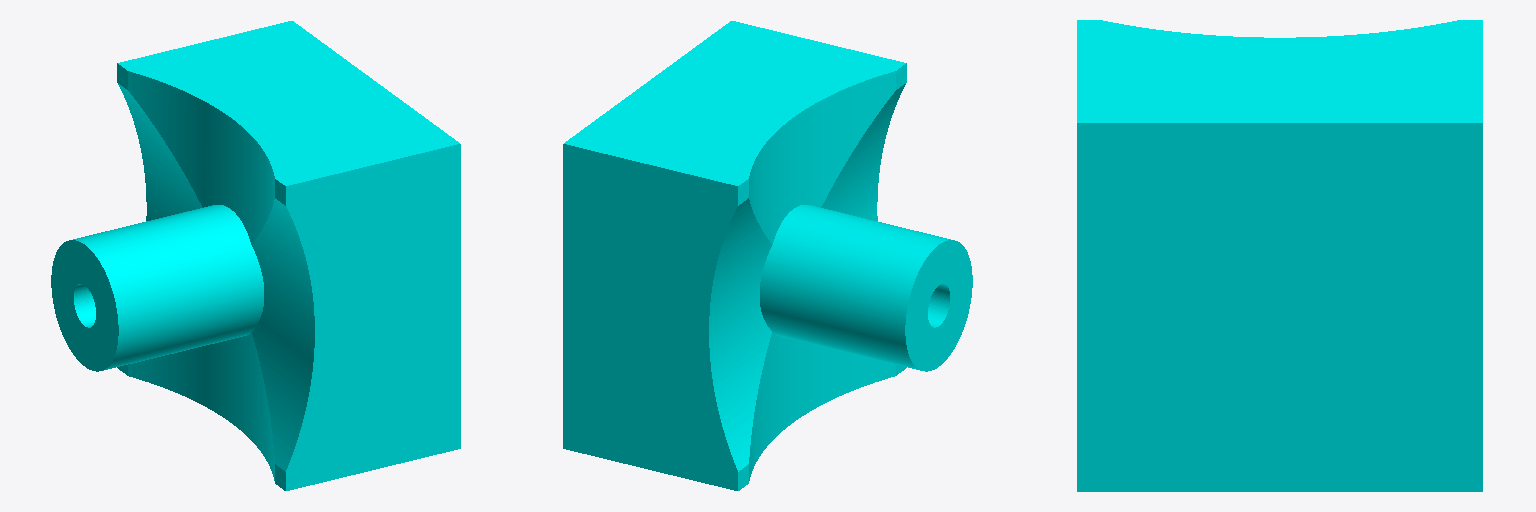
URDF robot description (centre05):
<robot name="centre05">
  <link name="centre05">
    <contact>
      <rolling_friction value="0.001"/>
      <spinning_friction value="0.001"/>
    </contact>
    <visual>
      <origin rpy="0 0 0" xyz="0 0 0"/>
      <geometry>
		<mesh filename="centre05.stl" scale="0.001 0.001 0.001"/>
      </geometry>
      <material name="cyan">
        <color rgba="0 1.0 1.0 1.0"/>
      </material>
    </visual>
    <collision>
      <origin rpy="0 0 0" xyz="0 0 0"/>
      <geometry>
	    <mesh filename="centre05.stl" scale="0.001 0.001 0.001"/>
      </geometry>
    </collision>
    </link>
</robot>

--- What the picture shows (computed from the rendered views, not written in the file) ---
The picture shows the robot from 3 angles, left to right: view 1: azimuth 30°, elevation 25°; view 2: azimuth 150°, elevation 25°; view 3: azimuth 270°, elevation 25°; orthographic projection.
Model centre05 with 1 links and 0 joints (none), rooted at centre05, posed all joints at 0.
Visible links, largest first — view 1: centre05; view 2: centre05; view 3: centre05.
Boxes of the visible links, x1,y1,x2,y2 form: centre05: (51,21,460,490); centre05: (563,21,972,490); centre05: (1077,20,1482,491).
Bounding box of the posed robot: 0.0191 × 0.019 × 0.019 m (x, y, z).
Meshes: 1 distinct files referenced, 1 mesh visuals loaded (1 binary STL).